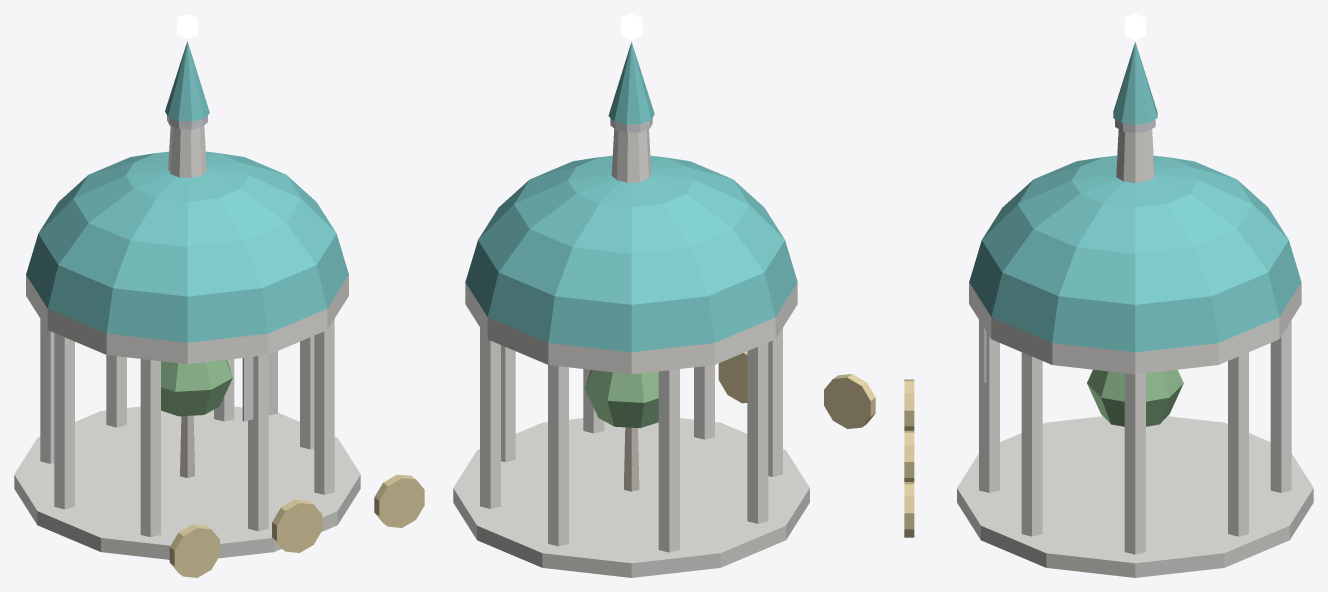
3 renders of one model, left to right at view 1: azimuth 30°, elevation 25°; view 2: azimuth 150°, elevation 25°; view 3: azimuth 270°, elevation 25°, orthographic. The views are drawn at different scales.
Visible parts, largest first — view 1: body; view 2: body; view 3: body.
Part boxes in pixels (box(x1,y1,x2,y2)): body: box(14, 14, 424, 577); body: box(453, 14, 875, 577); body: box(904, 14, 1313, 577).
Bounding box in the file's own units: 8.8 × 13.3 × 10.1.
